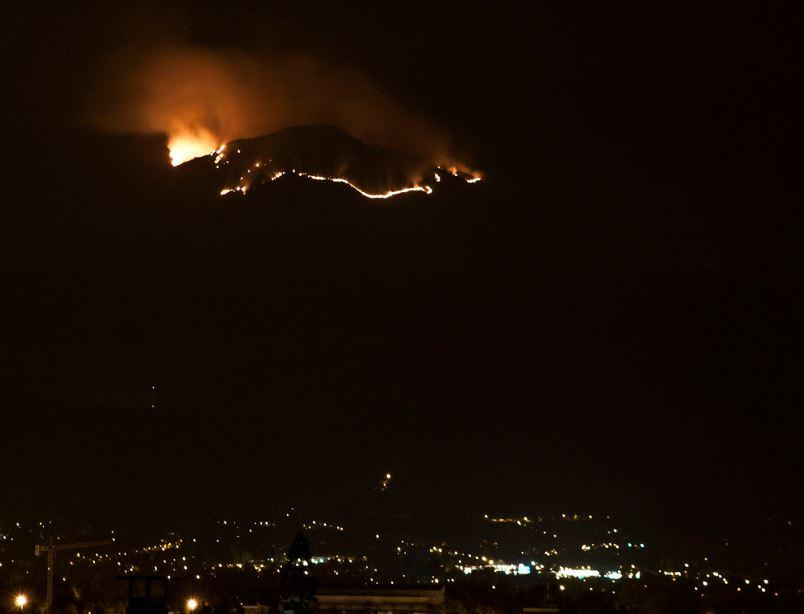fire: (274, 163, 438, 203), (213, 164, 267, 197), (168, 137, 213, 163), (449, 168, 484, 185)
